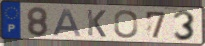3: (172, 9, 197, 42)
7: (144, 11, 167, 40)
8: (26, 6, 50, 38)
A: (51, 8, 84, 38)
K: (86, 8, 108, 38)
O: (113, 9, 139, 39)
